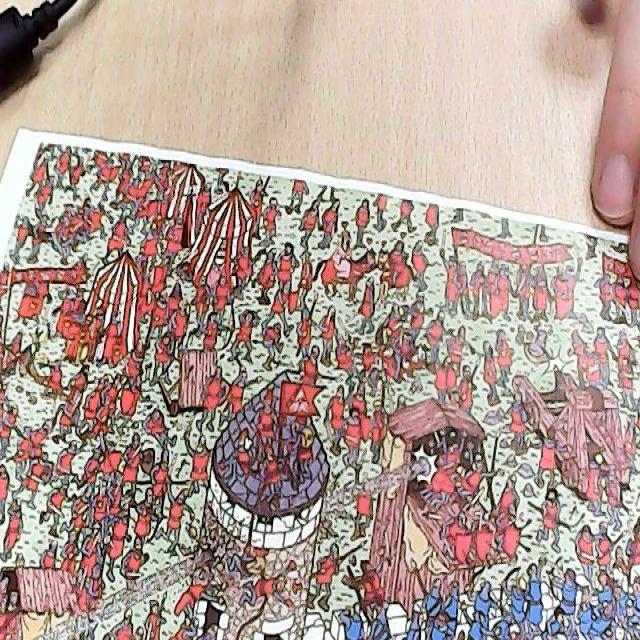waldo: (448, 384, 460, 408)
